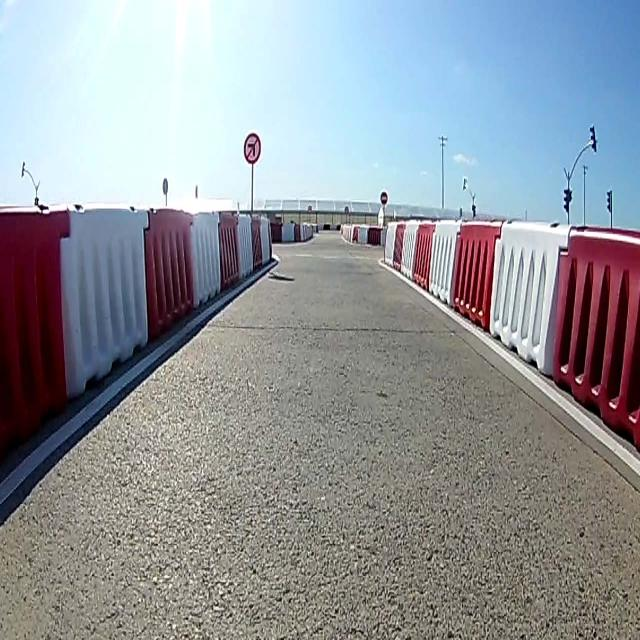girisyok: (379, 191, 388, 204)
soladonulmez: (244, 132, 262, 164)
